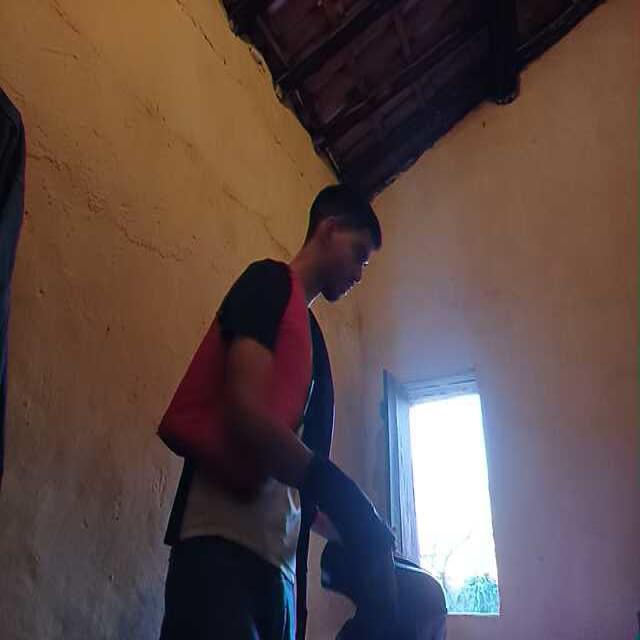capacete: (312, 539, 452, 639)
colete: (181, 268, 312, 475)
pessoa: (174, 192, 374, 640)
